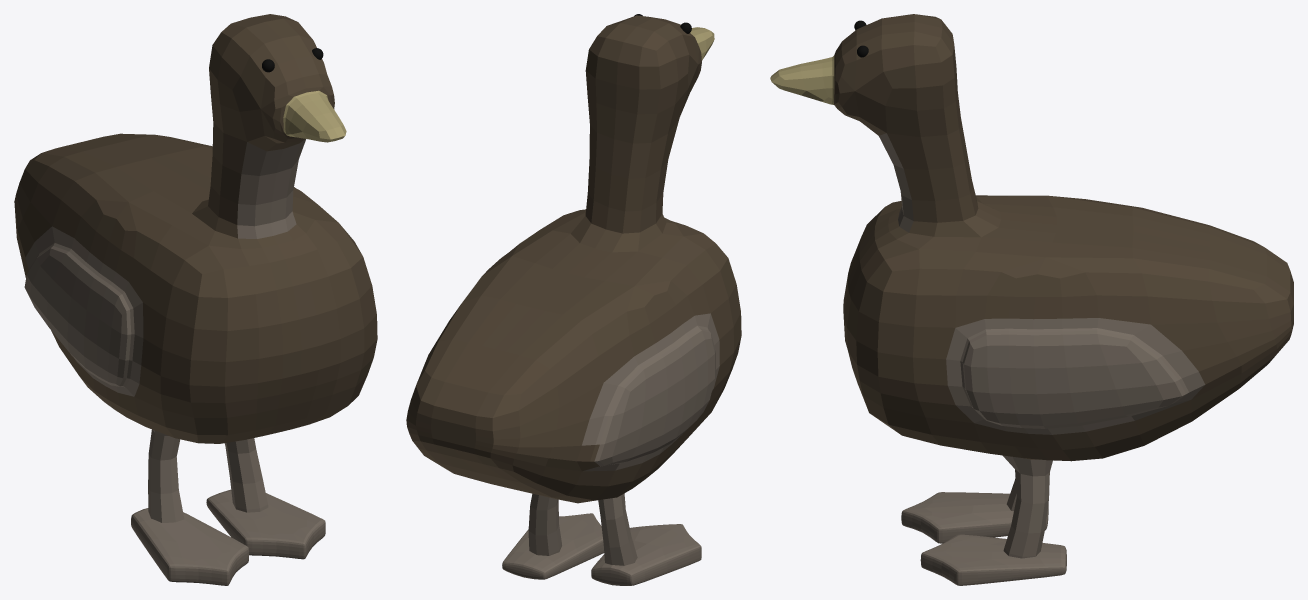
The model's file is duck3.gltf.
3 renders of one model, left to right at view 1: azimuth 30°, elevation 25°; view 2: azimuth 150°, elevation 25°; view 3: azimuth 270°, elevation 25°, orthographic. The views are drawn at different scales.
Parts seen in each view (by area): view 1: Cube; view 2: Cube; view 3: Cube.
Boxes of the visible parts, left/top/right/bottom form: Cube: left=14, top=14, right=377, bottom=585; Cube: left=406, top=14, right=741, bottom=585; Cube: left=770, top=14, right=1293, bottom=585.
Size of the model in its own units: 6.67 by 14.97 by 13.49.
